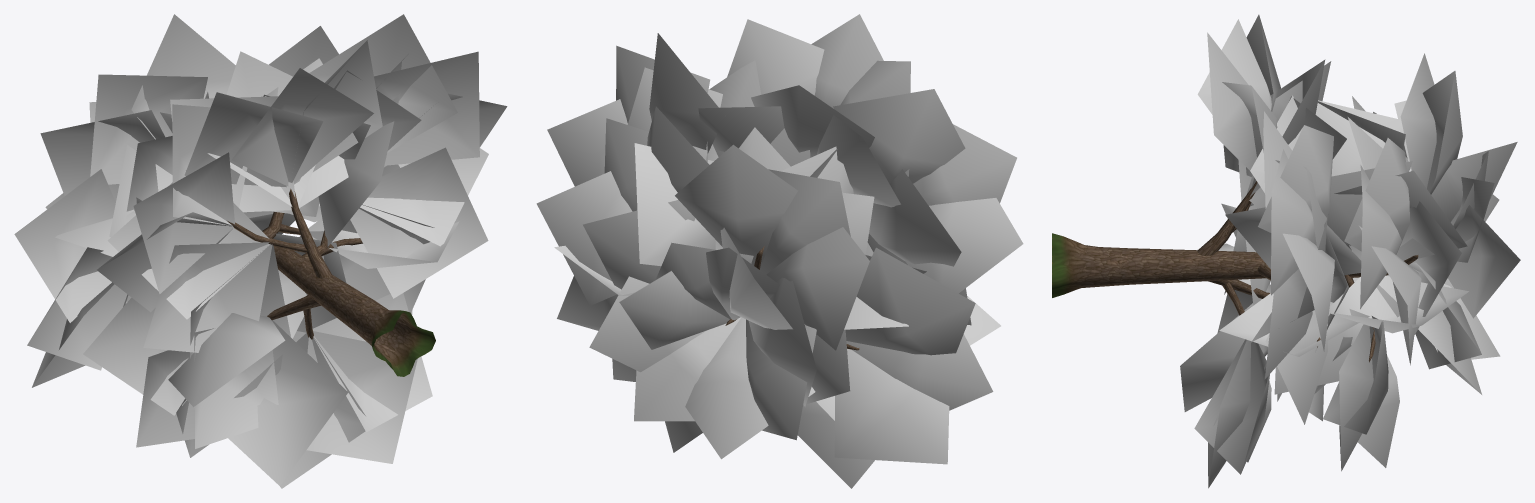
File: Deciduous_tree4.fbx
3 views of the same model, side by side, from view 1: azimuth 30°, elevation 25°; view 2: azimuth 150°, elevation 25°; view 3: azimuth 270°, elevation 25° (orthographic).
Visible parts, largest first — view 1: Deciduous_tree4; view 2: Deciduous_tree4; view 3: Deciduous_tree4.
Boxes of the visible parts, x1,y1,x2,y2 form: Deciduous_tree4: [14, 14, 507, 488]; Deciduous_tree4: [536, 14, 1023, 488]; Deciduous_tree4: [1052, 14, 1520, 488].
Size of the model in its own units: 15.88 by 14.29 by 14.13.
